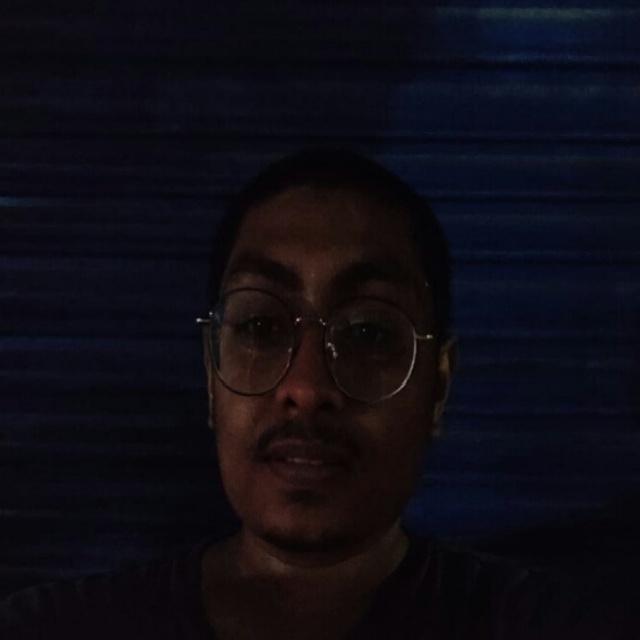Natural: (178, 148, 458, 600)
